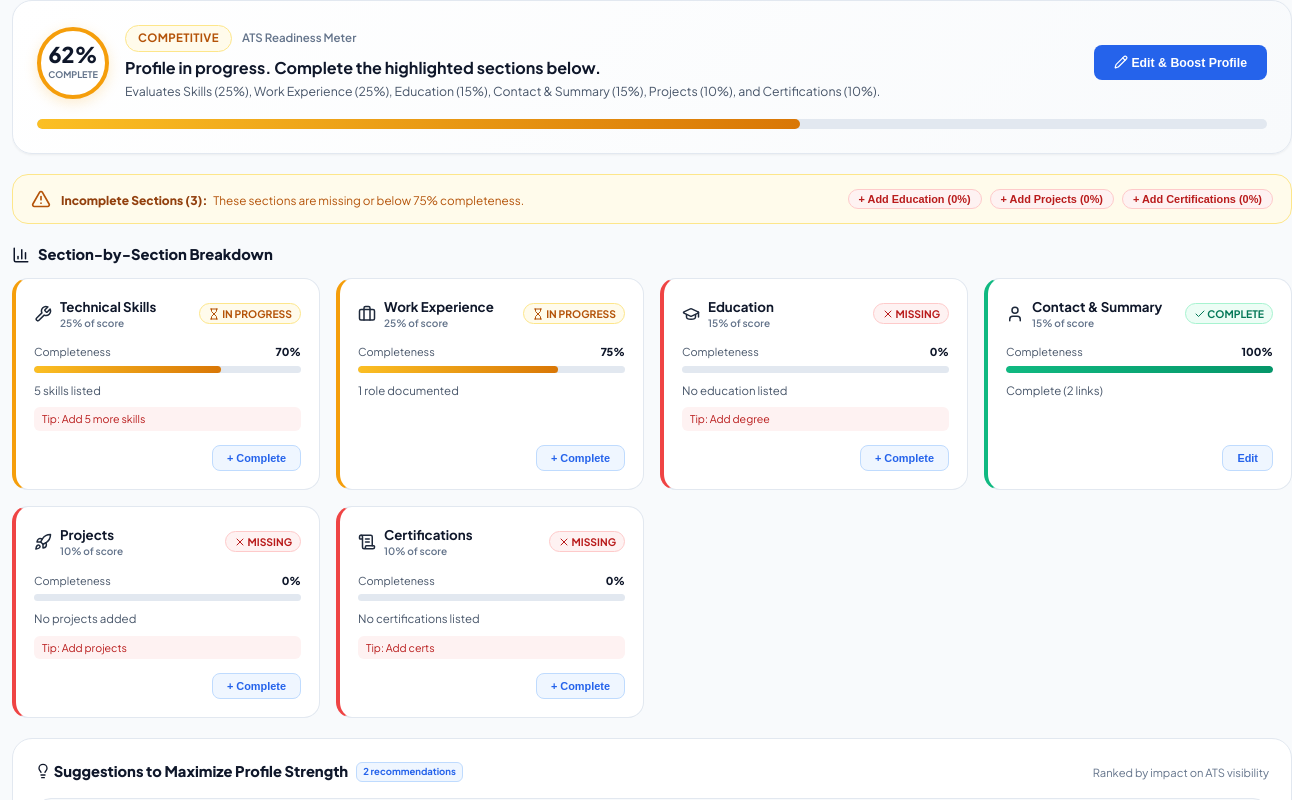
Test: Profile Strength Meter Component › opens the profile editor modal when clicking edit button
The width and height of the screenshot is (1292, 800).
What coordinates should you click on to do the following:
click the button "Edit & Boost Profile"
I would click on:
 (1180, 63)
Its box is x1=1094 y1=45 x2=1267 y2=80.
(page scrolled)
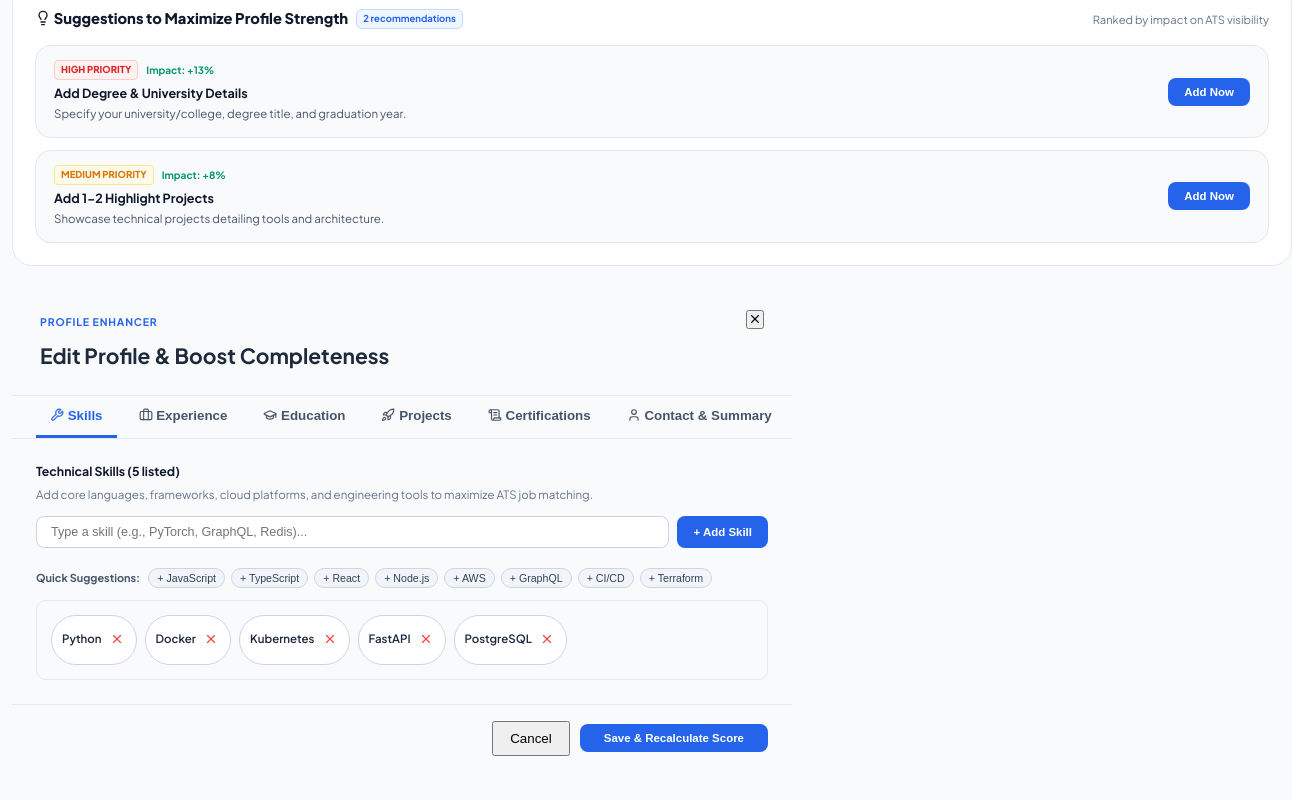
Expected: the heading "Edit Profile & Boost Completeness" is shown, x1=40 y1=341 x2=389 y2=371
Expected: the text "Technical Skills (5 listed)" is shown, x1=36 y1=463 x2=180 y2=479
